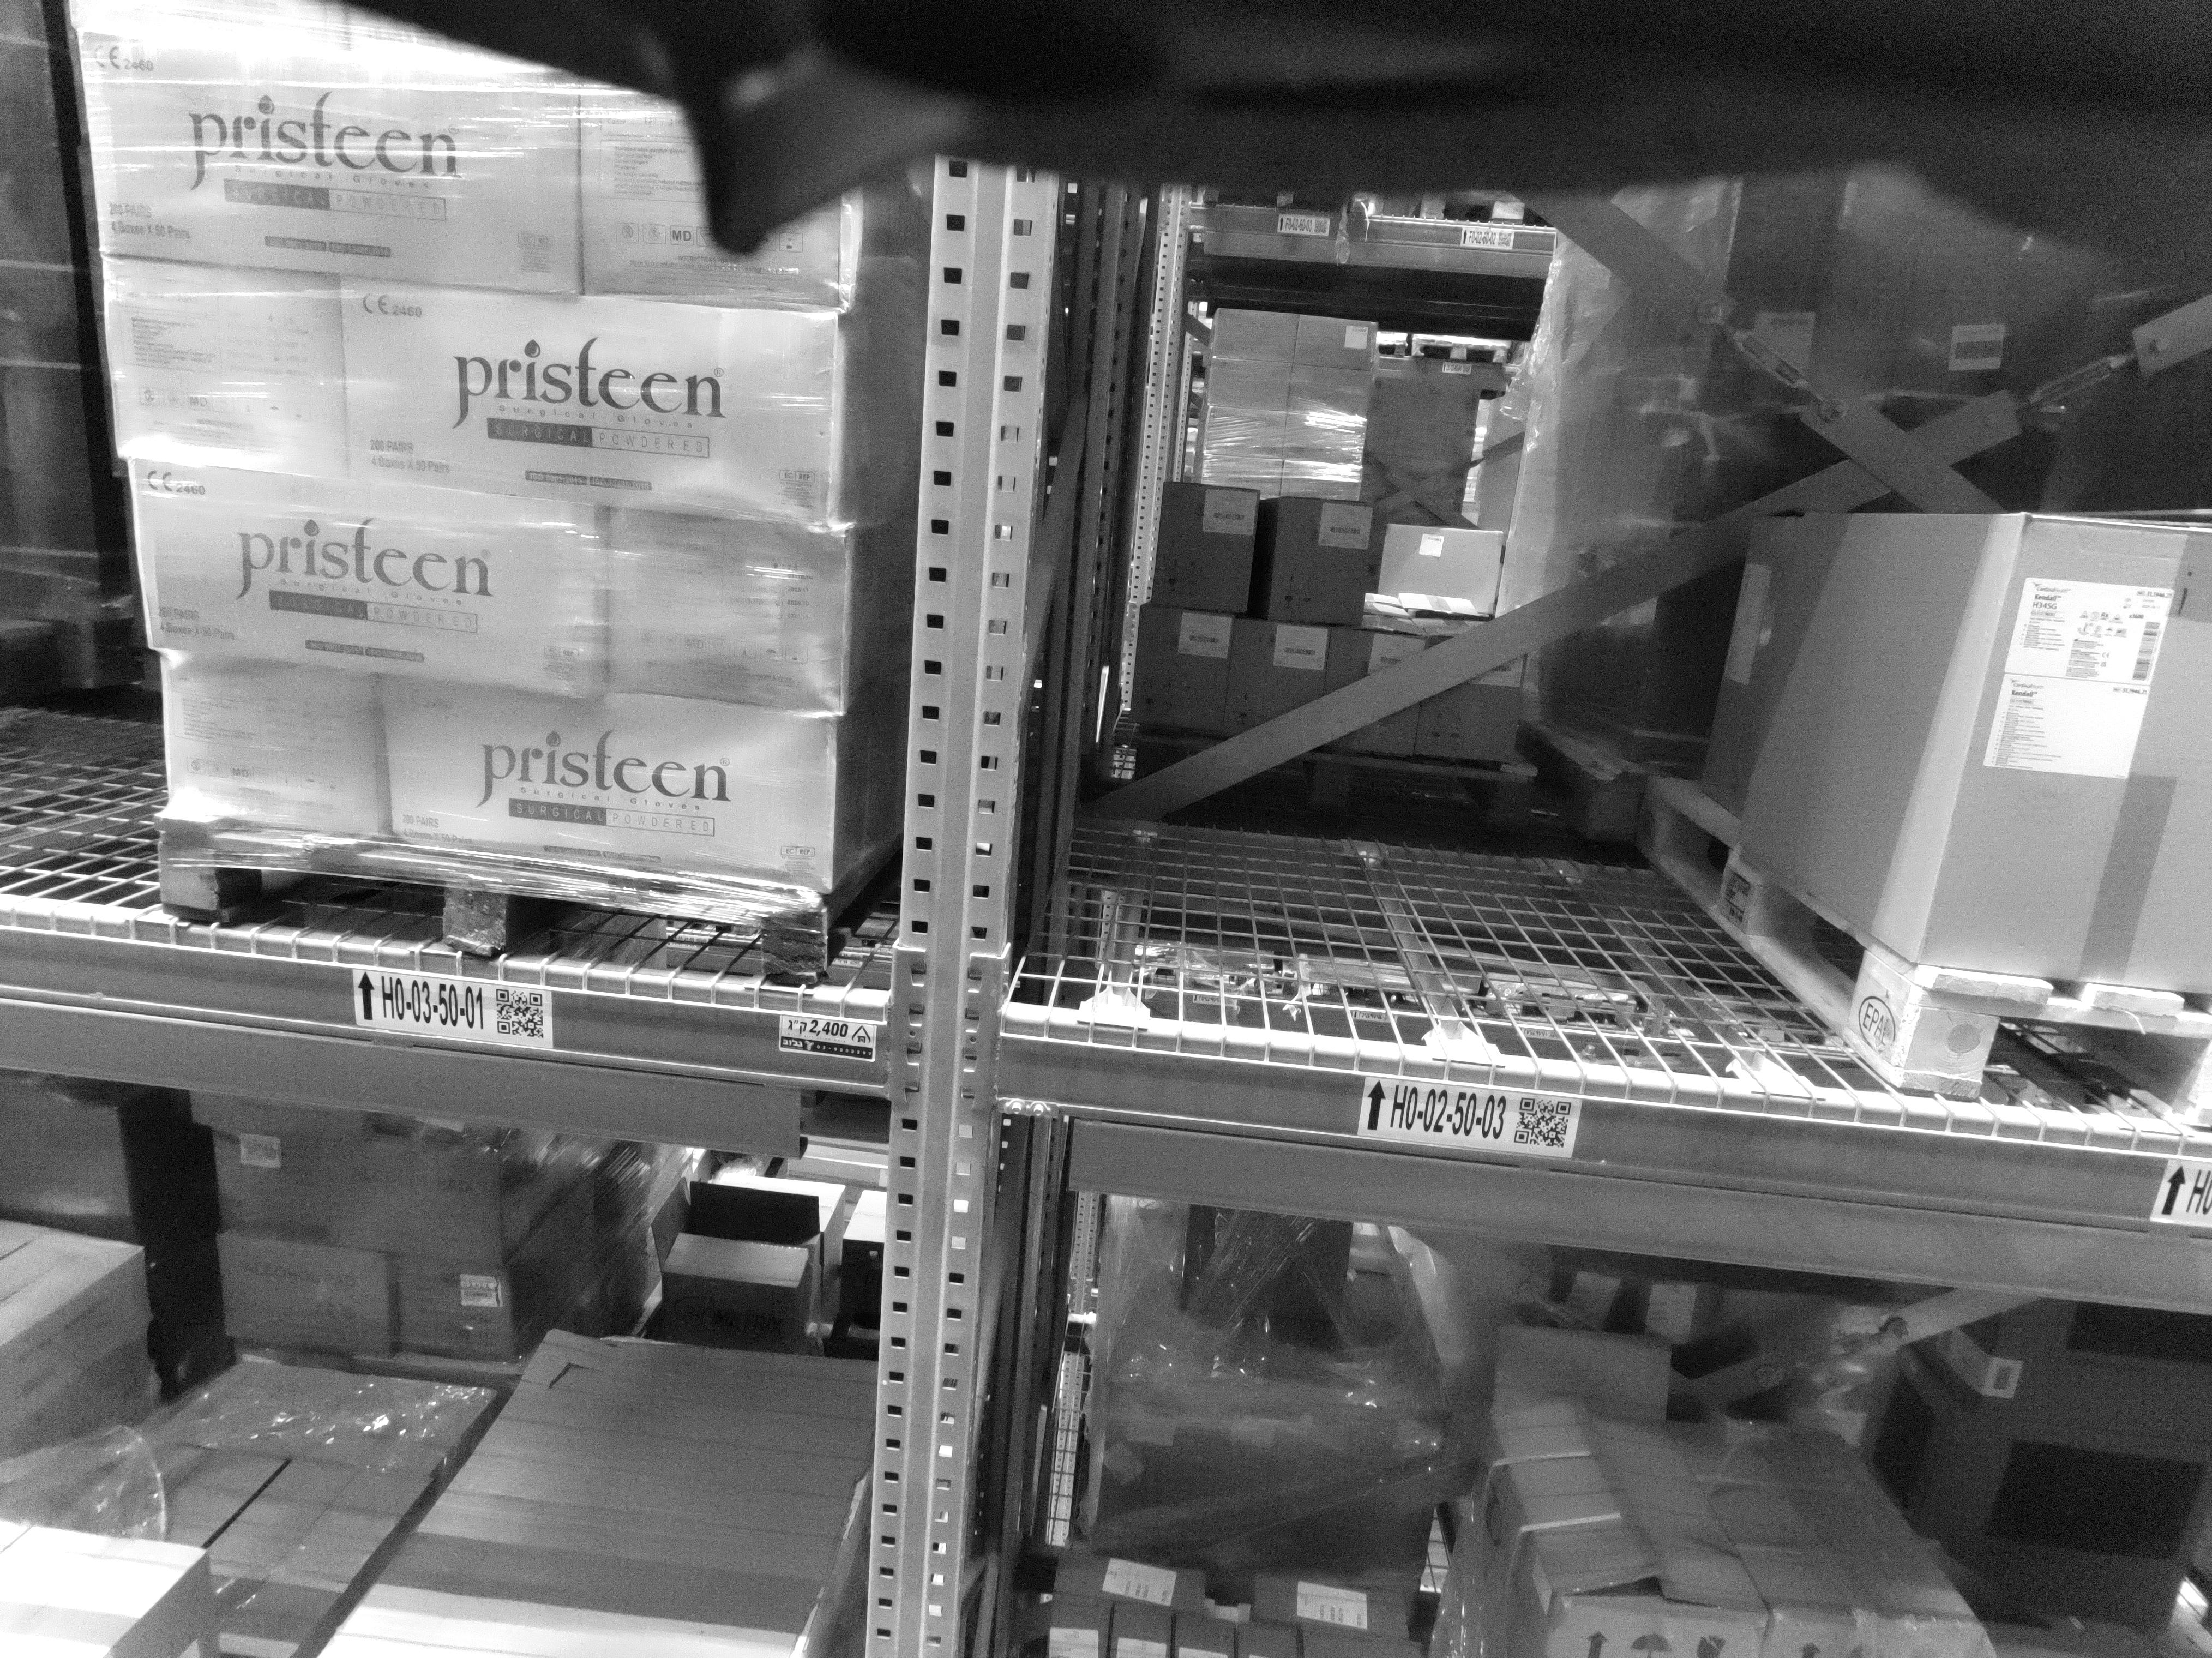empty-shelf: (1083, 200, 1728, 1050), (0, 0, 148, 921)
